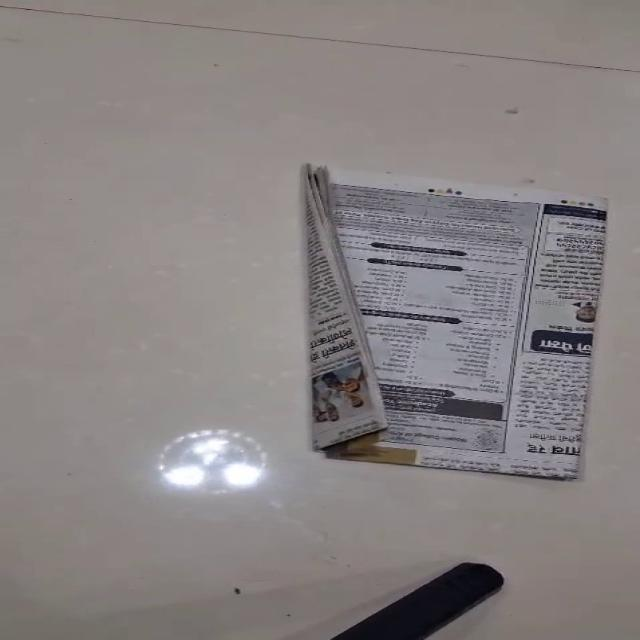paper: (305, 162, 609, 480)
